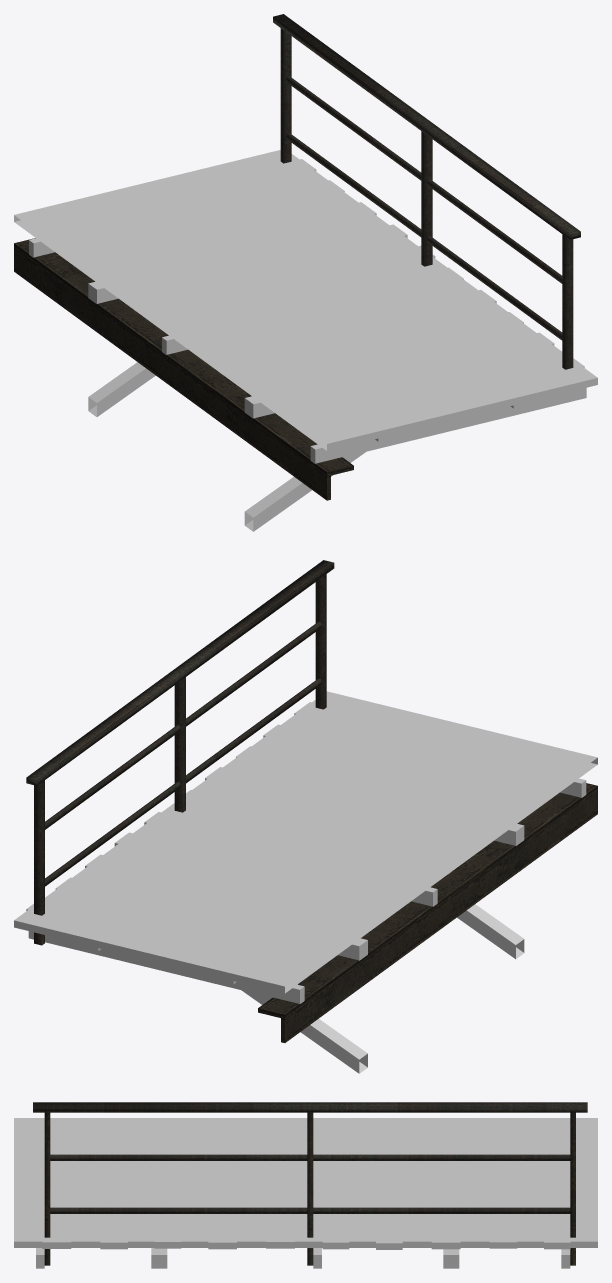
The model's file is platform_ax_2.fbx.
3 renders of one model, top to bottom at view 1: azimuth 30°, elevation 25°; view 2: azimuth 150°, elevation 25°; view 3: azimuth 270°, elevation 25°, orthographic. The views are drawn at different scales.
Parts seen in each view (by area): view 1: platform_ax_2; view 2: platform_ax_2; view 3: platform_ax_2.
Boxes of the visible parts, x1,y1,x2,y2 form: platform_ax_2: (14, 14, 597, 531); platform_ax_2: (14, 560, 597, 1073); platform_ax_2: (14, 1102, 597, 1268).
Size of the model in its own units: 2.03 by 4 by 1.99.
